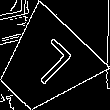L_SW: (16, 36, 73, 93)
